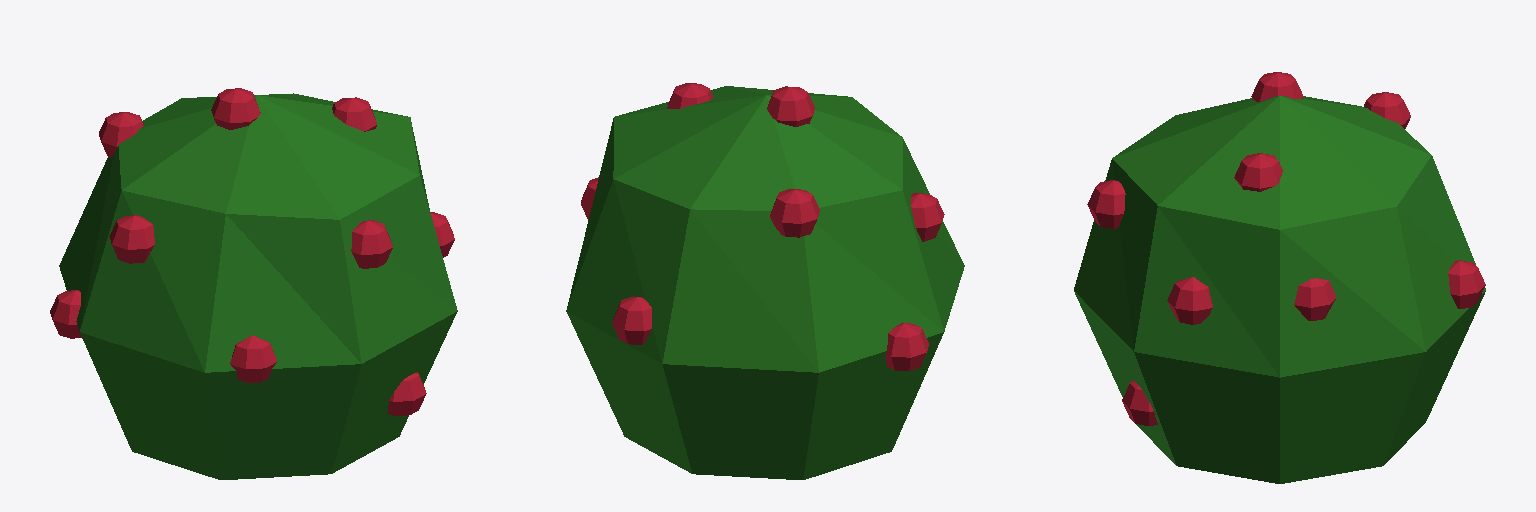
Rendered from Beerenbusch.obj.
The picture shows the model from 3 angles: view 1: azimuth 30°, elevation 25°; view 2: azimuth 150°, elevation 25°; view 3: azimuth 270°, elevation 25°; orthographic projection.
Visible parts, largest first — view 1: Kugel, Kugel.2, Kugel.10, Kugel.8, Kugel.4, Kugel.1, Kugel.11, Kugel.7, Kugel.3, Kugel.9; view 2: Kugel, Kugel.1, Kugel.11, Kugel.5, Kugel.4, Kugel.2, Kugel.3; view 3: Kugel, Kugel.9, Kugel.8, Kugel.3, Kugel.5, Kugel.6, Kugel.4, Kugel.1, Kugel.7.
Part boxes in pixels (left/top/right/bottom): Kugel: left=59, top=93, right=457, bottom=479; Kugel.2: left=109, top=215, right=154, bottom=263; Kugel.10: left=230, top=335, right=276, bottom=382; Kugel.8: left=351, top=220, right=392, bottom=268; Kugel.4: left=211, top=88, right=260, bottom=129; Kugel.1: left=99, top=112, right=143, bottom=157; Kugel.11: left=50, top=290, right=81, bottom=338; Kugel.7: left=388, top=372, right=426, bottom=415; Kugel.3: left=332, top=97, right=376, bottom=131; Kugel.9: left=430, top=212, right=454, bottom=257; Kugel: left=566, top=86, right=964, bottom=479; Kugel.1: left=770, top=189, right=819, bottom=237; Kugel.11: left=885, top=323, right=928, bottom=370; Kugel.5: left=612, top=296, right=651, bottom=344; Kugel.4: left=767, top=86, right=814, bottom=126; Kugel.2: left=911, top=193, right=944, bottom=241; Kugel.3: left=667, top=83, right=713, bottom=108; Kugel: left=1074, top=96, right=1485, bottom=483; Kugel.9: left=1167, top=277, right=1212, bottom=324; Kugel.8: left=1087, top=180, right=1125, bottom=228; Kugel.3: left=1234, top=153, right=1282, bottom=191; Kugel.5: left=1448, top=260, right=1485, bottom=308; Kugel.6: left=1294, top=278, right=1336, bottom=320; Kugel.4: left=1251, top=72, right=1303, bottom=101; Kugel.1: left=1364, top=92, right=1410, bottom=128; Kugel.7: left=1122, top=380, right=1157, bottom=425.
Bounding box in the file's own units: 20273 × 18519 × 20000.